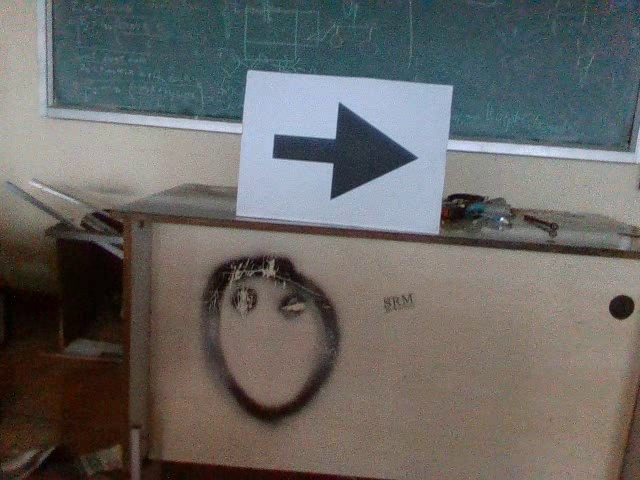Right: (262, 94, 420, 208)
